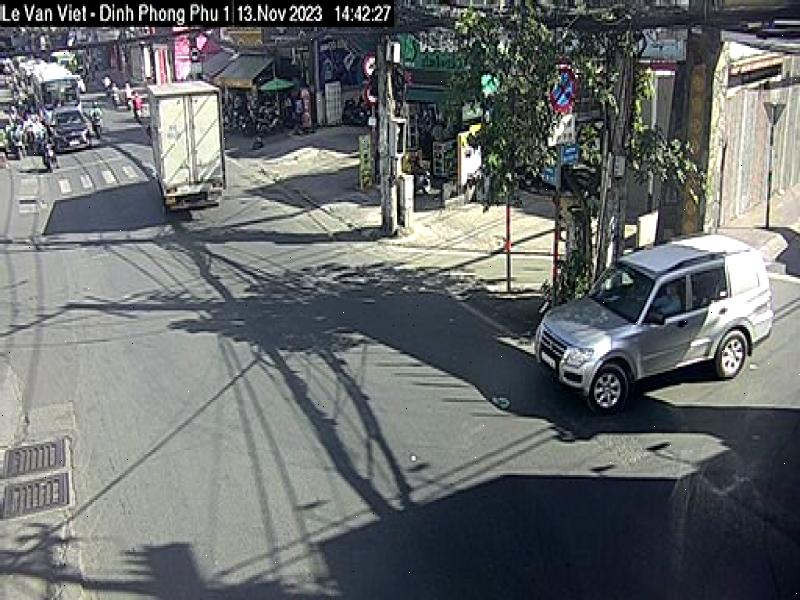truck: (145, 73, 233, 216)
